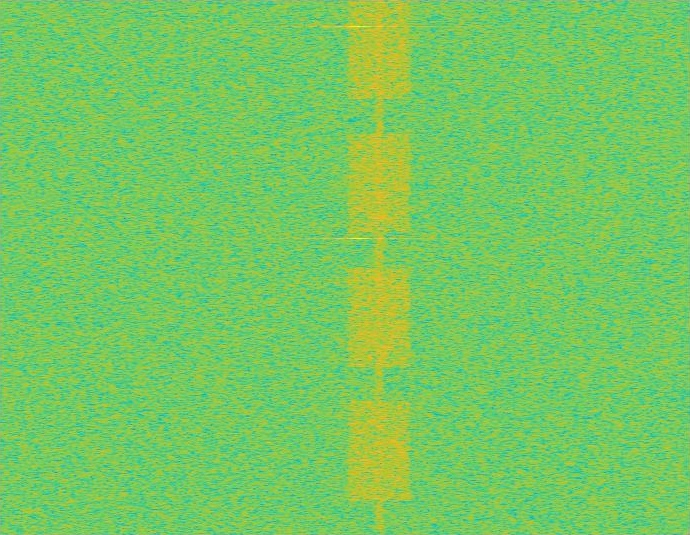5G: (345, 0, 414, 534)
DSSS: (375, 0, 384, 534)
Radar: (352, 0, 366, 534)
